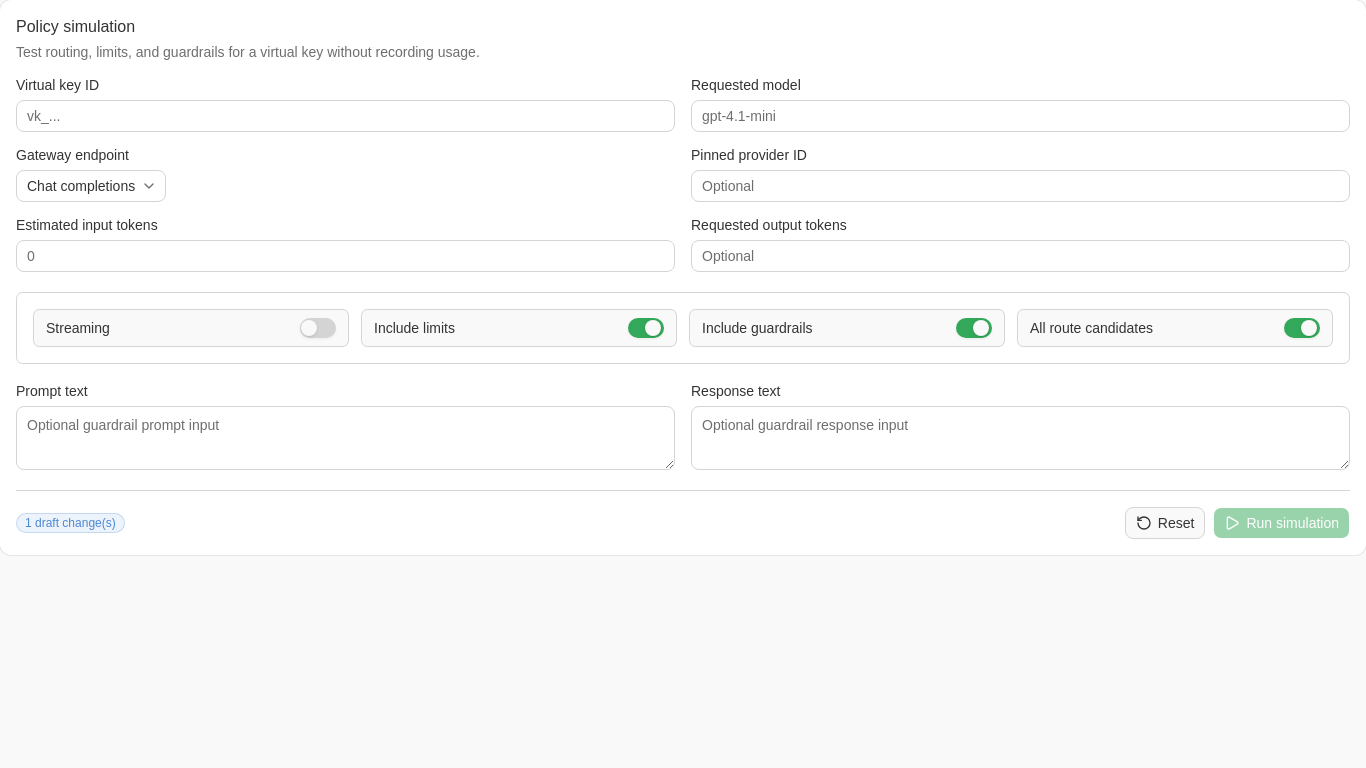
it: PolicySimulationPanel › submits a simulation request with optional guardrail text and drafts
The width and height of the screenshot is (1366, 768).
In the field labelled "Virtual key ID": [346, 116] box [16,100,675,132], type "key-1"
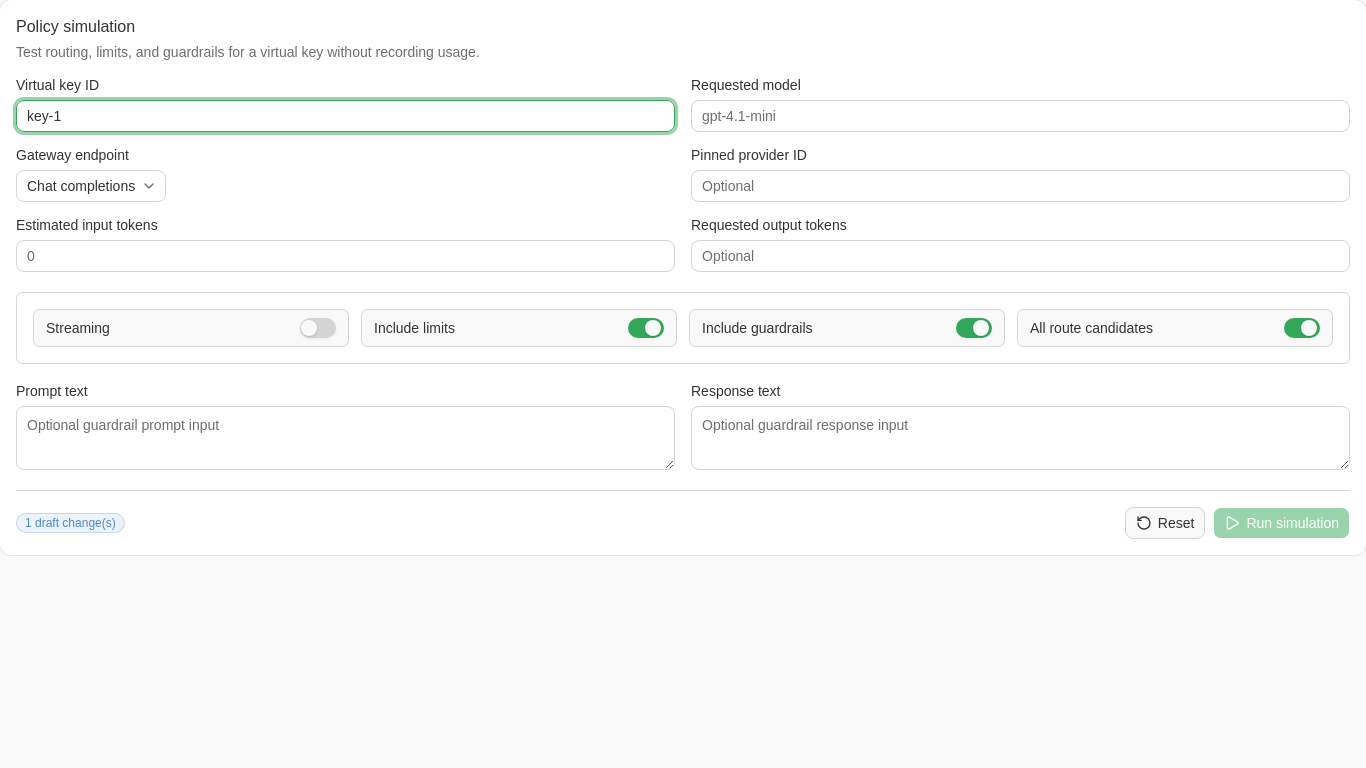
In the field labelled "Requested model": [1020, 116] box [691,100,1350,132], type "gpt-public"
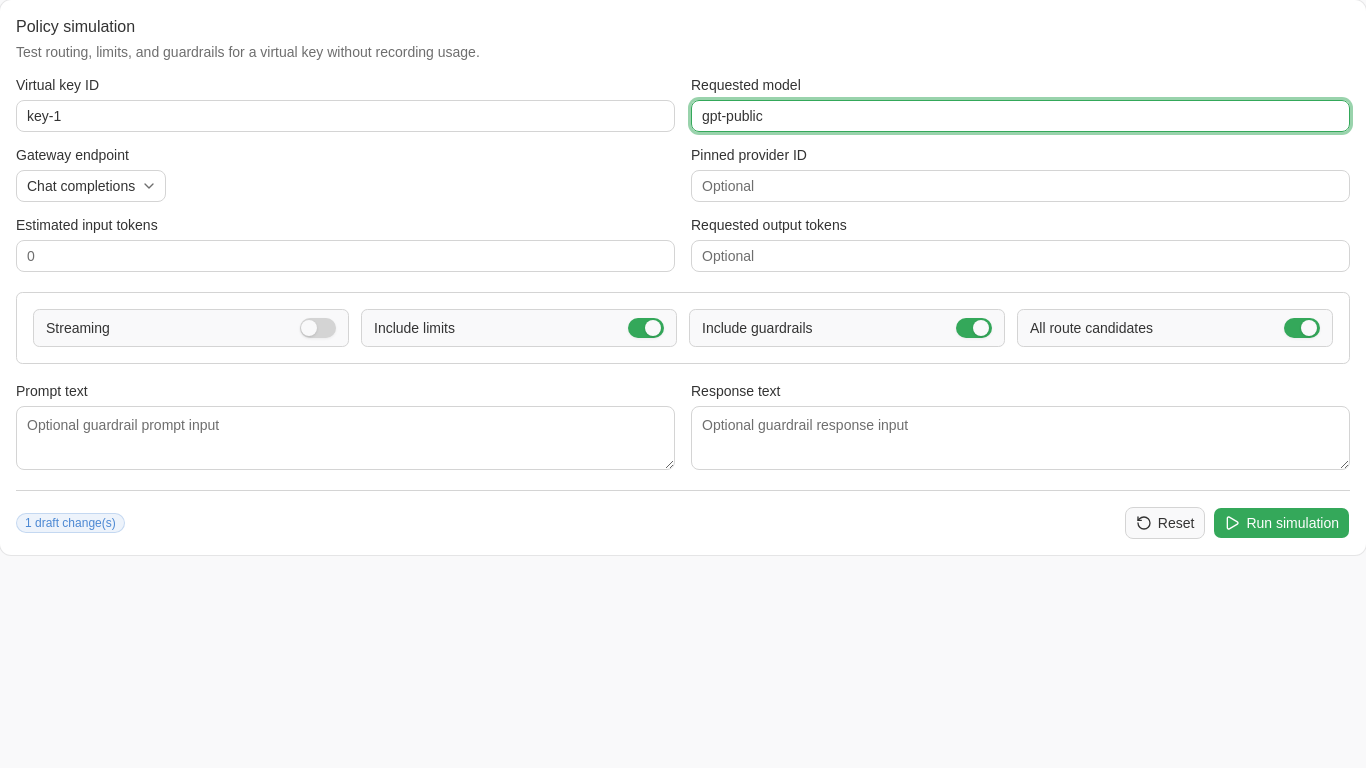
In the number field labelled "Estimated input tokens": [346, 256] box [16,240,675,272], type "42"
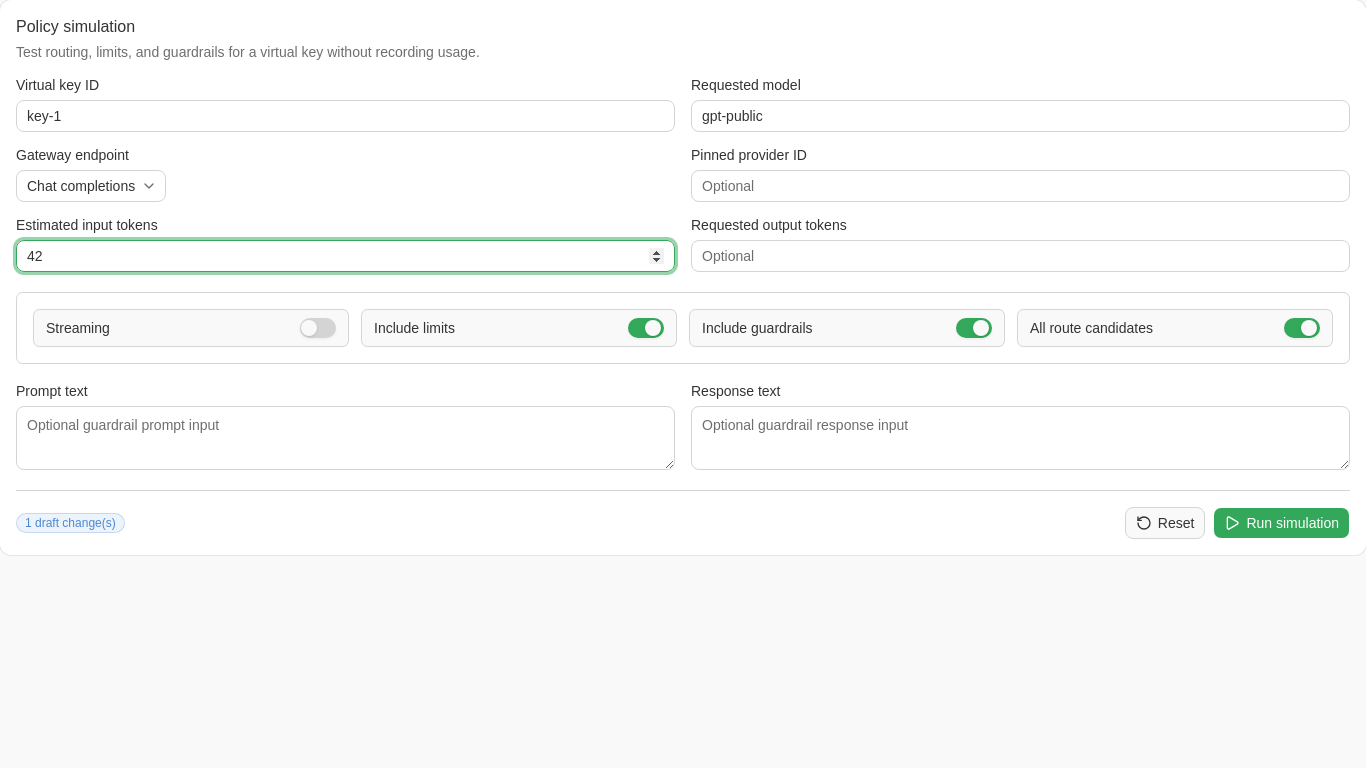
In the number field labelled "Requested output tokens": [1020, 256] box [691,240,1350,272], type "128"
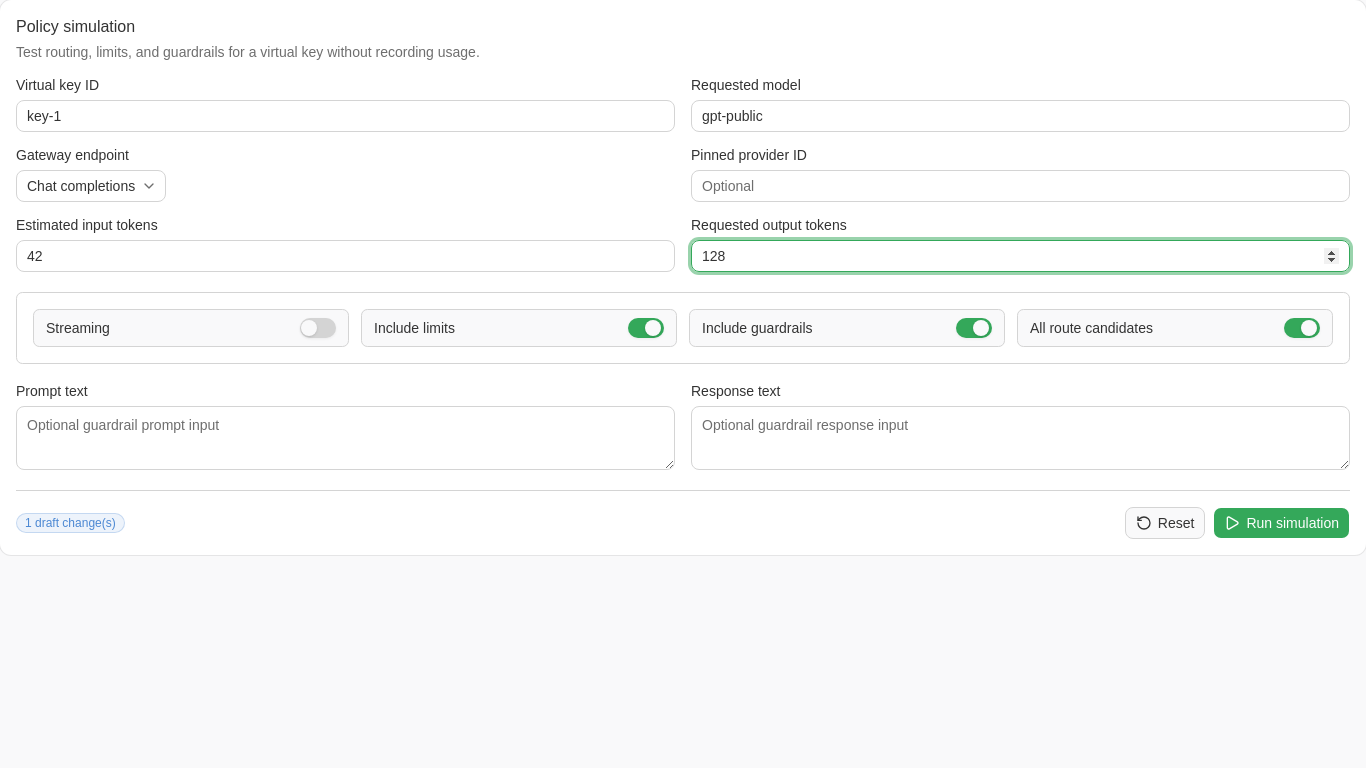
In the text box labelled "Prompt text": [346, 438] box [16,406,675,470], type "hello"
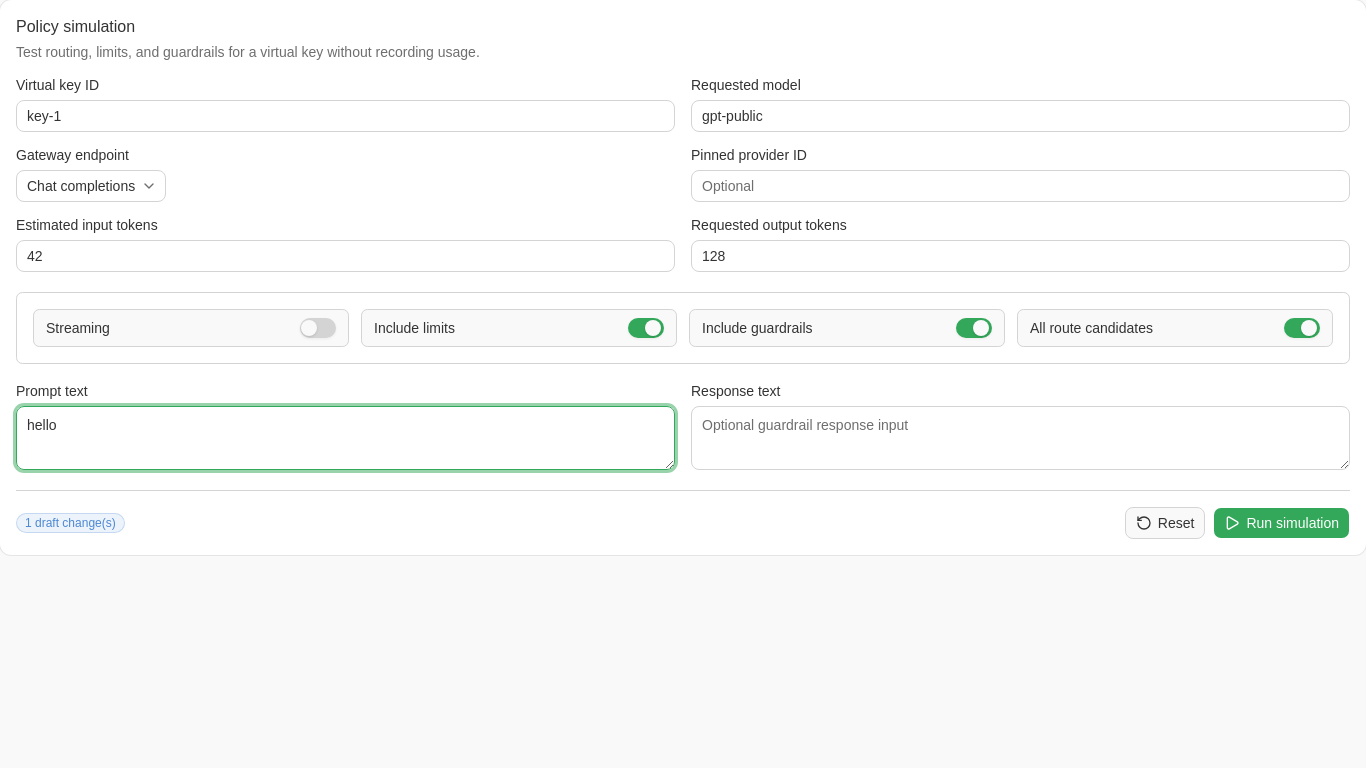
Click the button "Run simulation": [1282, 523] box [1213,507,1350,539]
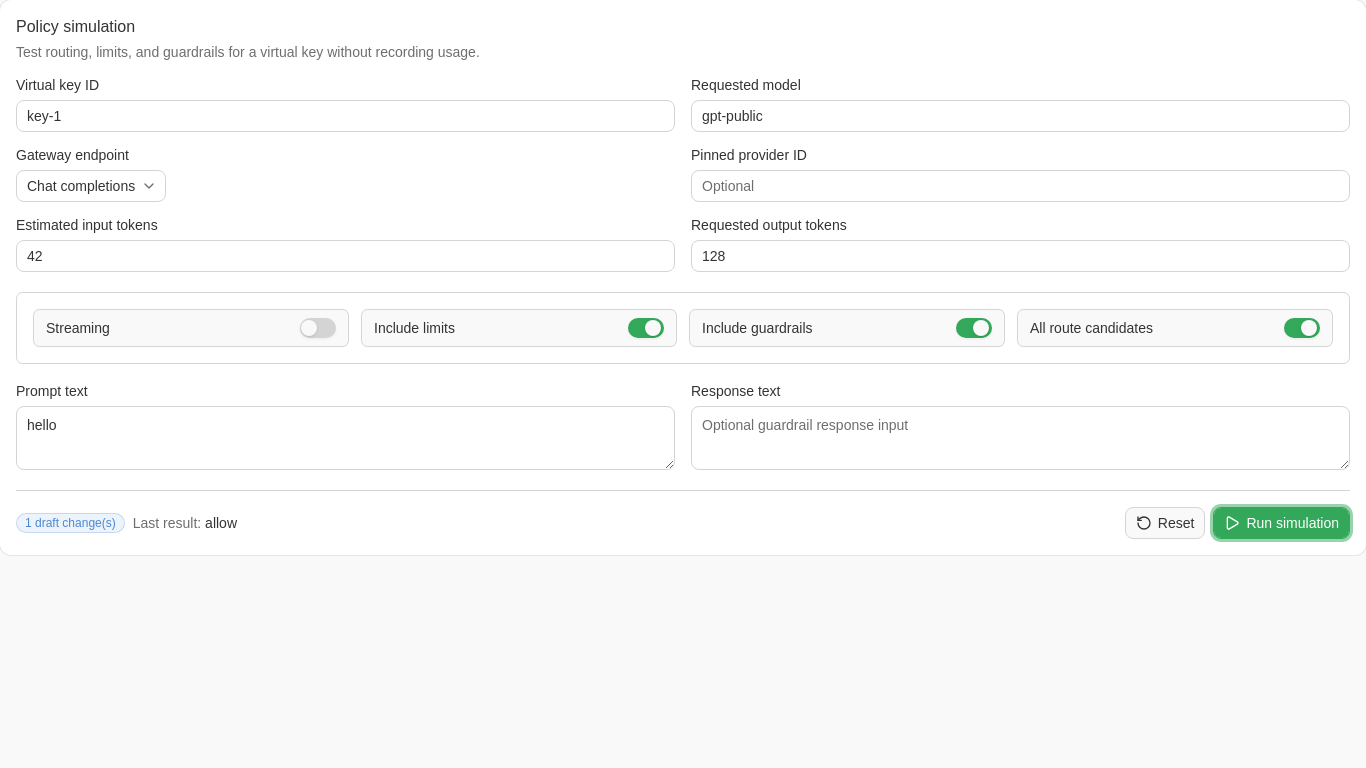
Expected: the text "1 draft change(s)" is shown, [16,513,125,533]
Expected: the text "allow" is shown, [205,515,237,531]
